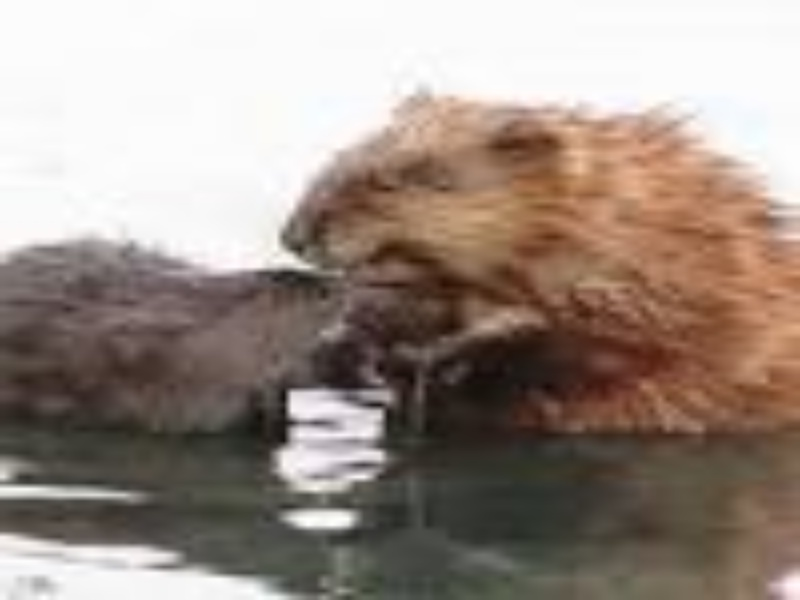minkish: (275, 73, 796, 437), (1, 236, 354, 444)
